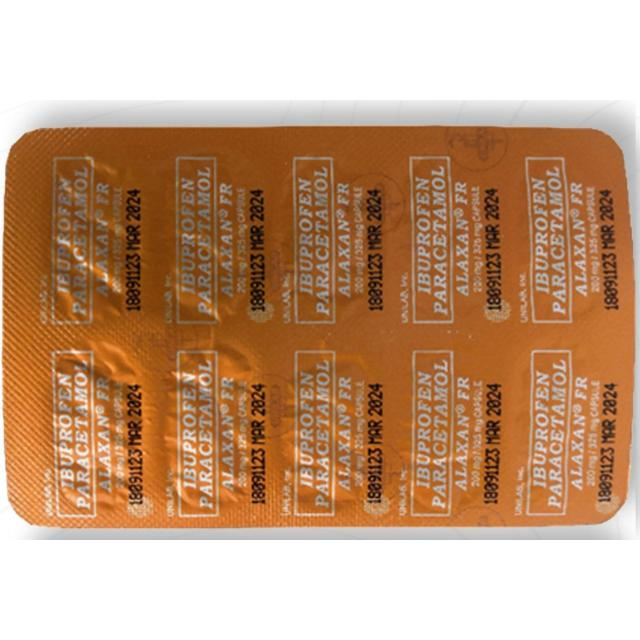blister: (5, 119, 639, 532)
